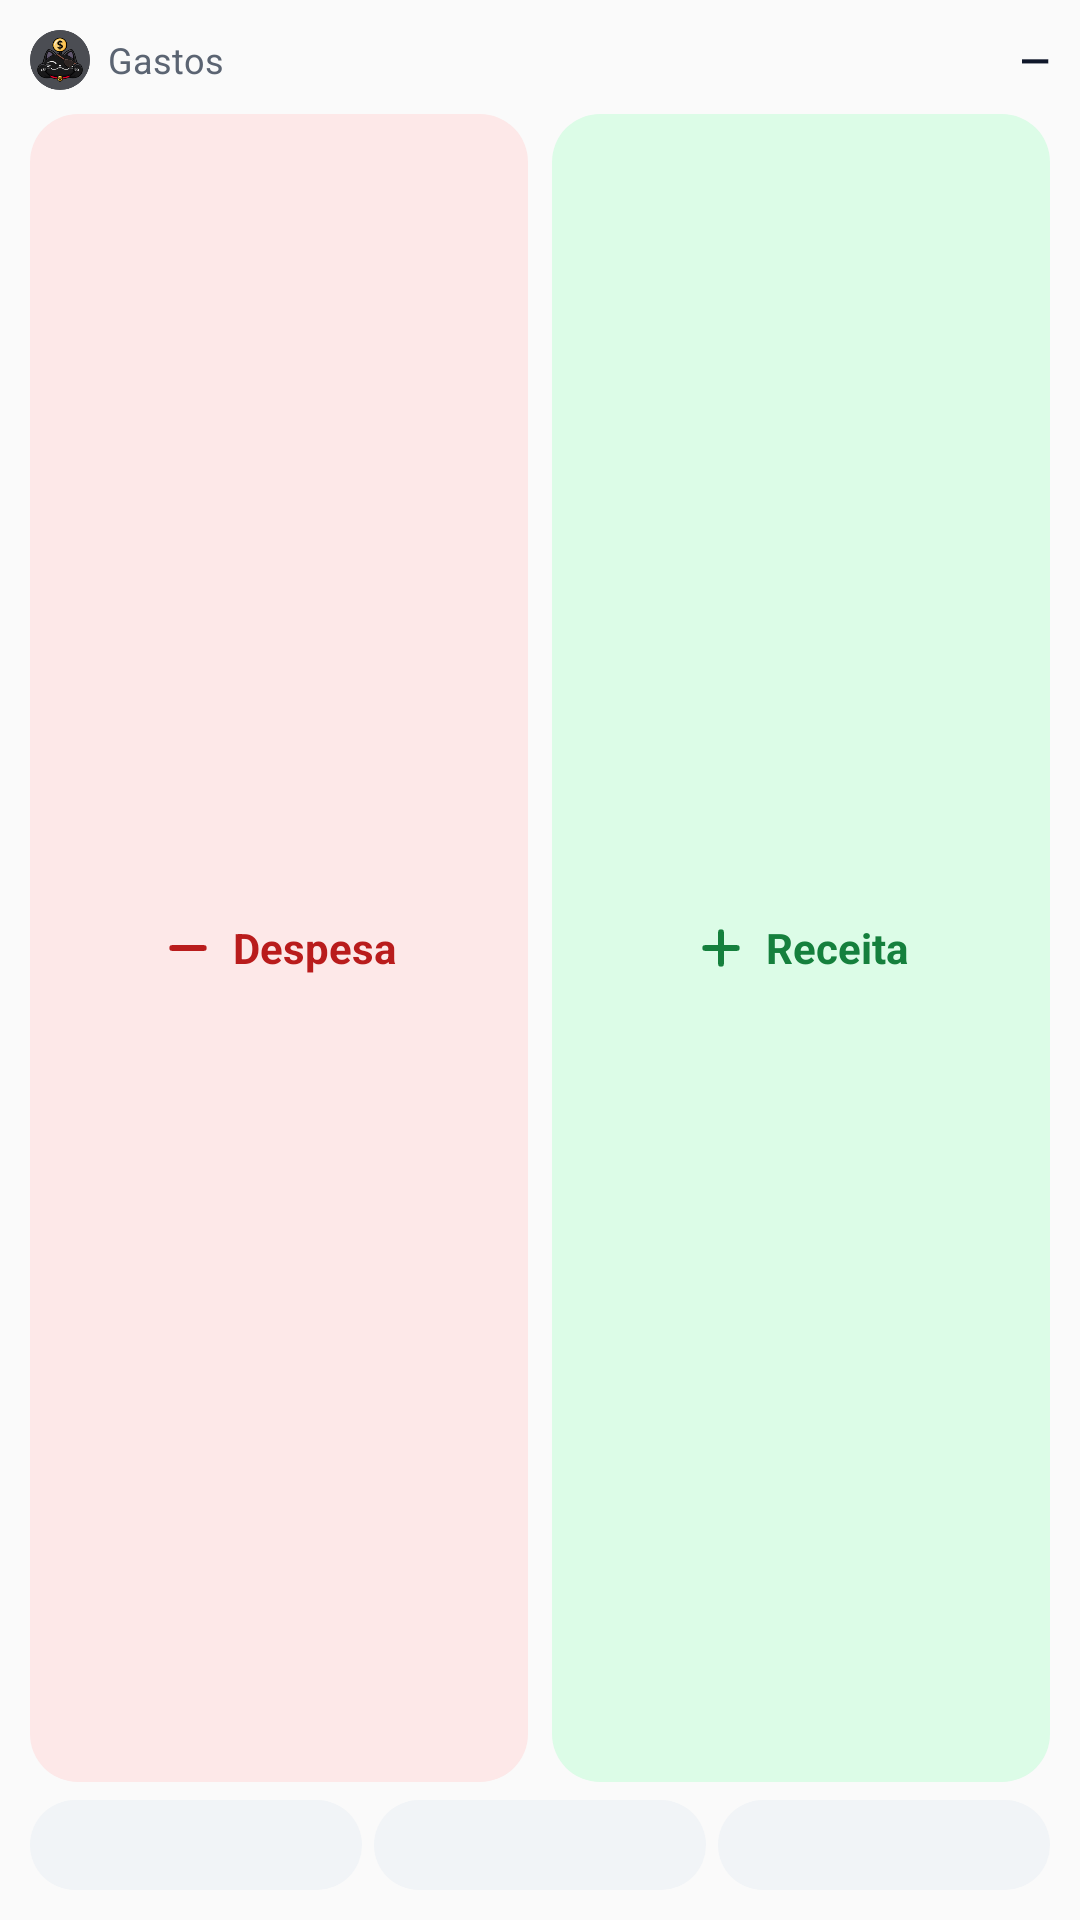

Where to tap for icons on this 1080 x 1920 app screen, as (x,y):
widget plus: (721,948)
